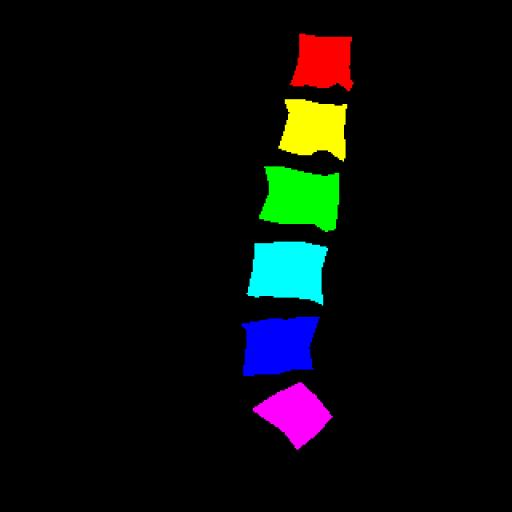L1: (291, 34, 352, 90)
L2: (279, 99, 347, 160)
L3: (259, 166, 339, 232)
L4: (248, 244, 326, 304)
L5: (243, 318, 319, 376)
S1: (253, 382, 332, 450)
